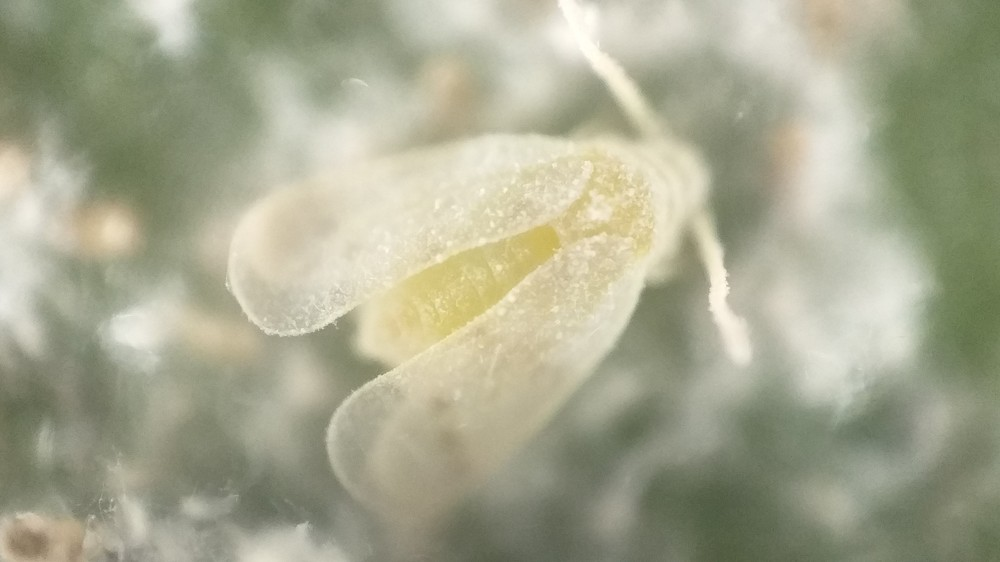Mosca Blanca: (221, 8, 781, 541)
